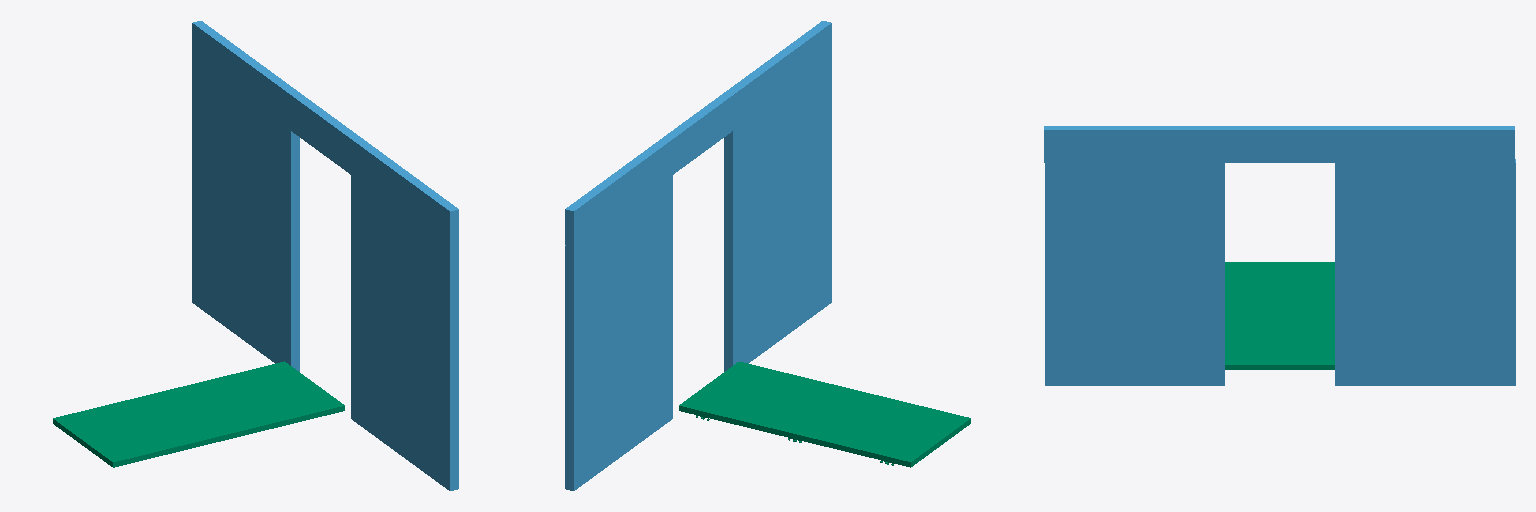
URDF robot description (door_test):
<robot name = 'door_test' xmlns:xacro="http://ros.org/wiki/xacro">
    <!-- <link name = 'world'/> -->
    
    <!-- <joint name = 'world2base' type = 'fixed'>
        <parent link = 'world'/>
        <child link = 'base_link'/>
    </joint> -->

    <link name = 'base_link'/>
        
    <joint name = 'base_joint' type = 'fixed'>
        <parent link = 'base_link'/>
        <origin xyz = '0 -0.5 0.0' rpy='0 0 0'/>
        <!-- if move y : the door will slide -->
        <child link = 'door_wall'/>
    </joint>

    <link name = 'door_wall'>
        <visual>
            <geometry>
                <box size='0.08 1.5 2.04'/>
            </geometry>
            <origin xyz = '-0.03 -0.69 1.02' rpy = '0 0 0'/>
        </visual>
        <visual>
            <geometry>
                <box size='0.08 1.5 2.04'/>
            </geometry>
            <origin xyz = '-0.03 1.72 1.02' rpy = '0 0 0'/>
        </visual>
        <visual>
            <geometry>
                <box size='0.08 3.91 0.3'/>
            </geometry>
            <origin xyz = '-0.03 0.512 2.19' rpy = '0 0 0'/>
        </visual>

        <collision name="side_1">
            <geometry>
                <box size = '0.05029 0.06858 2.10820'/>
            </geometry>
            <origin xyz = '-0.02 0.02 1.05' rpy = '0 0 0'/>
        </collision>
        <collision>
            <geometry>
                <box size='0.08 1.5 2.04'/>
            </geometry>
            <origin xyz = '-0.03 -0.72 1.02' rpy = '0 0 0'/>
        </collision>
        <collision name="side_2_hinge_side">
            <geometry>
                <box size='0.08 1.5 2.04'/>
            </geometry>
            <origin xyz = '-0.03 1.72 1.02' rpy = '0 0 0'/>
        </collision>
        <collision name="top">
            <geometry>
                <box size='0.08 3.91 0.3'/>
            </geometry>
            <origin xyz = '-0.03 0.512 2.19' rpy = '0 0 0'/>
        </collision>
        <inertial>
            <origin xyz="0 0 0" rpy="0 0 0"/>
            <mass value="10000.0"/>
            <inertia ixx="0.0" ixy="0.0" ixz="0.0" iyy="0.0" iyz="0.0" izz="0.0"/>
        </inertial>
    </link>

    <joint name = 'door_hinge' type = 'revolute'>
        <axis xyz = '0 0 1'/>
        <origin xyz = '-0.07 0.972 0' rpy = '3.14159 0 0'/>
        <limit lower = '0' upper = '1.57' effort='10000' velocity="100.00"/>
        <dynamics damping="10.0" friction="0.0"/>
        <parent link = 'door_wall'/>
        <child link = 'door'/>
    </joint>

    <link name = 'door'>
        <visual>
            <geometry>
                <mesh filename = './meshes/door.dae'/>
            </geometry>
            <origin xyz = '-0.05 0 0' rpy = '-1.57 0 1.57'/>
            <color rgba = '0.5 0.5 0.5 1.0'/>
        </visual>
        <collision name="door_collision">
            <geometry>
                <mesh filename = './meshes/door.dae'/>
            </geometry>
            <origin xyz = '-0.05 0 0' rpy = '-1.57 0 1.57'/>
        </collision>
        <inertial>
            <origin xyz="0.4569 0.0349 1.016" rpy="0 0 0"/>
            <mass value="41.3256"/>
            <inertia ixx="14.2053" ixy="0.0004" ixz="0.0000" iyy="17.1997" iyz="0.0000" izz="3.0298"/>
        </inertial>
    </link>

    <joint name = 'door_handle' type = 'revolute'>
        <axis xyz = '-1 0 0' rpy = '0 0 0 '/>
        <parent link = 'door'/>
        <origin xyz = '0.035 0.75 -1.02'/>
        <limit lower = '0' upper = '0.5236' effort='100' velocity="1000.00"/>
        <dynamics damping="0.0" friction="0.0"/>
        <child link = 'door_handles'/>
    </joint>

    <link name = 'door_handles'>
        <visual>
            <geometry>
                <mesh filename = './meshes/door_handle.dae' scale='1.0 0.75 0.75'/>
            </geometry>
            <origin xyz = '0 0 0' rpy = '0 3.141592 1.57'/>
            <color rgba = '0.55 0.5 0.5 1.0'/>
        </visual>
        <visual>
            <geometry>
                <mesh filename = './meshes/door_handle.dae' scale='1.0 0.75 0.75'/>
            </geometry>
            <origin xyz = '0.04 0 0' rpy = '0 0 -1.57'/>
             <color rgba = '0.5 0.5 0.5 1.0'/>
        </visual>
        <collision name="door_handles_collision">
            <geometry>
                <mesh filename="./meshes/door_handle.dae" scale='1.0 0.75 0.75'/>
            </geometry>
            <origin xyz = '0 0 0' rpy = '0 3.141592 1.57'/>
        </collision>
        <collision name="door_handles_collision">
            <geometry>
                <mesh filename="./meshes/door_handle.dae" scale='1.0 0.75 0.75'/>
            </geometry>
            <origin xyz = '0.045 0 0' rpy = '0 0 -1.57'/>
        </collision>
        <inertial>
            <origin xyz="0.0 0.0 0.0" rpy="3.14159 0 1.57"/>
            <mass value="1.0"/>
            <!-- <inertia ixx="14.2053" ixy="0.0004" ixz="0.0000" iyy="17.1997" iyz="0.0000" izz="3.0298"/> -->
        </inertial>
    </link>
    
    <joint name = 'handle2latch' type = 'fixed'>
        <parent link = 'door_handles'/>
        <child link = 'door_latch'/>
    </joint>

    <link name='door_latch'>
        <!-- <visual> -->
            <!-- <geometry>
                <box size='0.001 0.13 0.01'/> 
                
            </geometry>
            <origin xyz = '0.046 0.11 0' rpy = '0 0 0'/>
        </visual> -->

        <collision>
            <geometry>
                <box size='0.001 0.13 0.01'/> 
                <!-- 0.14 -->
            </geometry>
            <origin xyz = '0.046 0.11 0' rpy = '0 0 0'/>
        </collision>

    </link>

</robot>

--- Facts derived from the render (not from the file) ---
The picture shows the robot from 3 angles, left to right: view 1: azimuth 30°, elevation 25°; view 2: azimuth 150°, elevation 25°; view 3: azimuth 270°, elevation 25°; orthographic projection.
Robot: door_test — 5 links, 4 joints (2 revolute, 2 fixed); root link base_link; default pose: all joints at 0.
Links seen in each view (by area): view 1: door_wall, door; view 2: door_wall, door; view 3: door_wall, door.
Boxes of the visible links, bbox=[...] form: door_wall: bbox=[192, 21, 458, 490]; door: bbox=[53, 361, 344, 467]; door_wall: bbox=[565, 21, 831, 490]; door: bbox=[679, 362, 970, 467]; door_wall: bbox=[1044, 126, 1515, 385]; door: bbox=[1225, 262, 1334, 369].
Bounding box of the posed robot: 2.16 × 3.91 × 2.34 m (x, y, z).
1 mesh visuals loaded from 2 distinct referenced files (1 Collada DAE); not drawn: 2 (reference not matched to a file when rendering).